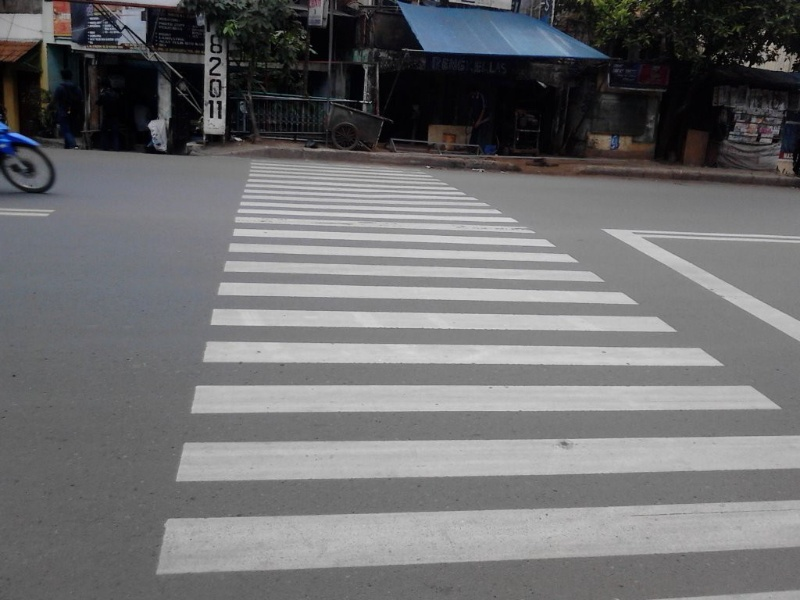zebra cross: (150, 164, 800, 593)
